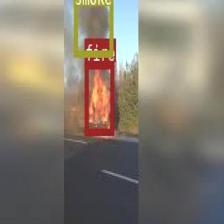fire: (84, 61, 113, 134)
smoke: (73, 0, 111, 55)
